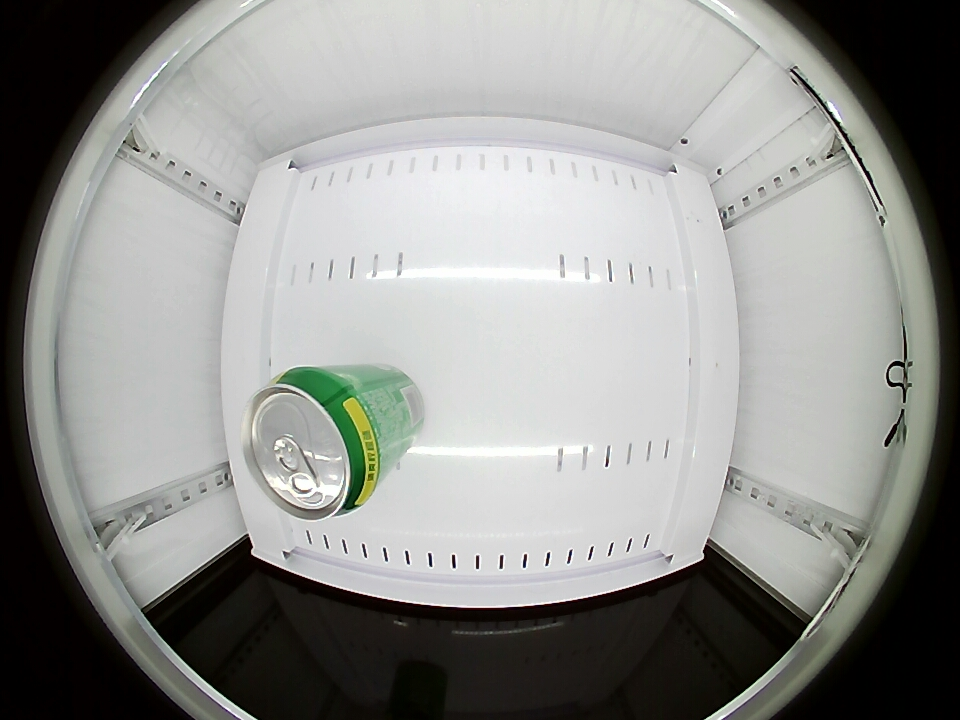xuebi2: (244, 367, 388, 521)
